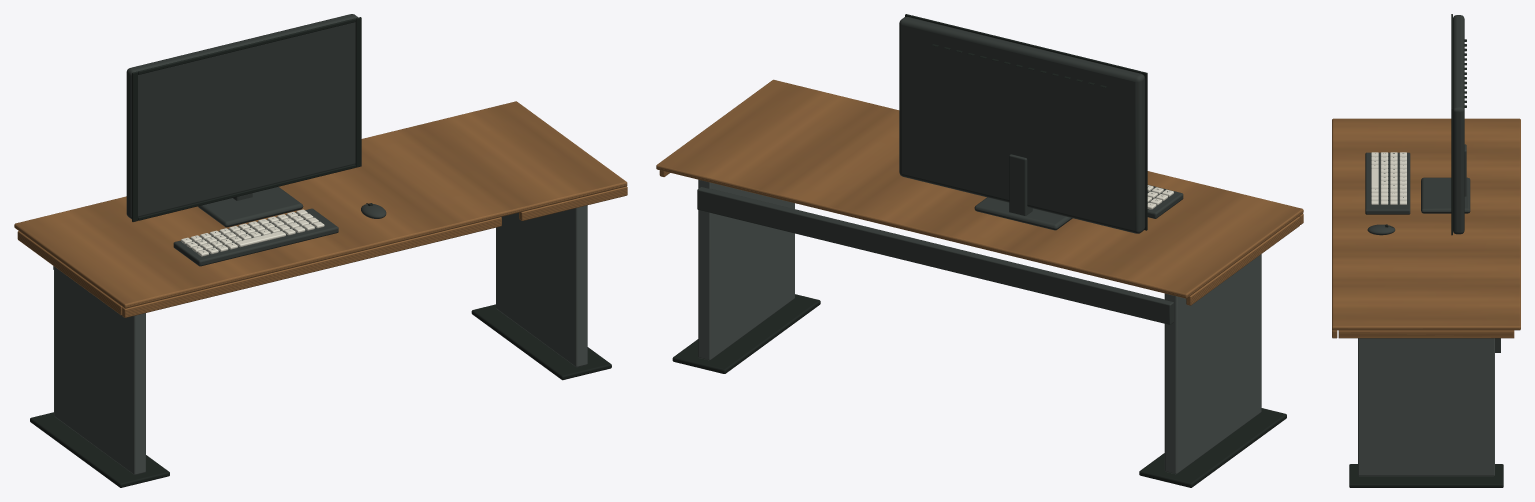
File: workbench.glb
3 renders of one model, left to right at view 1: azimuth 30°, elevation 25°; view 2: azimuth 150°, elevation 25°; view 3: azimuth 270°, elevation 25°, orthographic. The views are drawn at different scales.
Visible parts, largest first — view 1: workbench / Desk oak edge, workbench / Warm graphite steel, workbench / Workbench graphite powder coat, workbench / Soft black feet, workbench / Ivory note paper; view 2: workbench / Warm graphite steel, workbench / Desk oak edge, workbench / Workbench graphite powder coat, workbench / Soft black feet; view 3: workbench / Desk oak edge, workbench / Workbench graphite powder coat, workbench / Warm graphite steel, workbench / Soft black feet, workbench / Ivory note paper.
Boxes of the visible parts, <box> form: workbench / Desk oak edge: <box>14,101,627,317</box>; workbench / Warm graphite steel: <box>53,14,386,269</box>; workbench / Workbench graphite powder coat: <box>54,205,587,474</box>; workbench / Soft black feet: <box>30,17,611,487</box>; workbench / Ivory note paper: <box>181,209,324,256</box>; workbench / Warm graphite steel: <box>697,16,1183,324</box>; workbench / Desk oak edge: <box>656,79,1303,305</box>; workbench / Workbench graphite powder coat: <box>698,179,1261,474</box>; workbench / Soft black feet: <box>672,14,1286,487</box>; workbench / Desk oak edge: <box>1332,118,1520,338</box>; workbench / Workbench graphite powder coat: <box>1358,338,1494,476</box>; workbench / Warm graphite steel: <box>1365,15,1500,352</box>; workbench / Soft black feet: <box>1349,14,1503,487</box>; workbench / Ivory note paper: <box>1371,152,1406,204</box>.
Size of the model in its own units: 2.3 by 1.55 by 0.88.
Materials: 5 (1 with a texture image).
